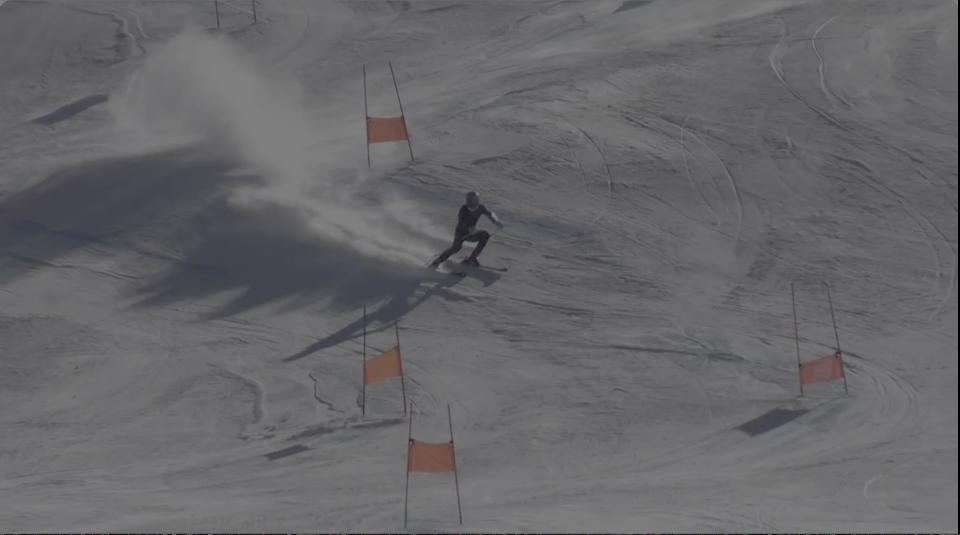gate: (811, 267, 856, 409), (772, 290, 819, 422), (342, 297, 383, 432), (439, 398, 479, 535), (348, 55, 387, 181), (386, 55, 422, 179), (392, 403, 428, 526), (385, 299, 411, 422)
